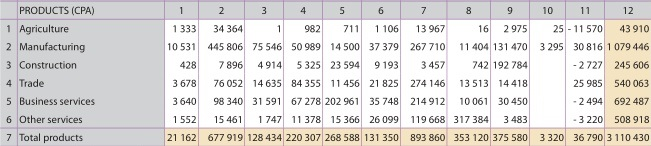column: (19, 1, 94, 144), (606, 1, 648, 146), (207, 1, 243, 146), (409, 1, 445, 146), (286, 1, 321, 146), (568, 1, 603, 146), (454, 2, 489, 146), (247, 1, 281, 146), (364, 1, 398, 146), (493, 2, 527, 146), (325, 1, 358, 146), (167, 4, 196, 146), (539, 1, 563, 145), (5, 1, 12, 141)
row: (1, 78, 651, 88), (1, 43, 651, 52), (1, 61, 651, 70), (1, 133, 651, 142), (1, 97, 649, 106), (1, 6, 651, 14), (1, 24, 651, 32), (1, 115, 650, 123)
